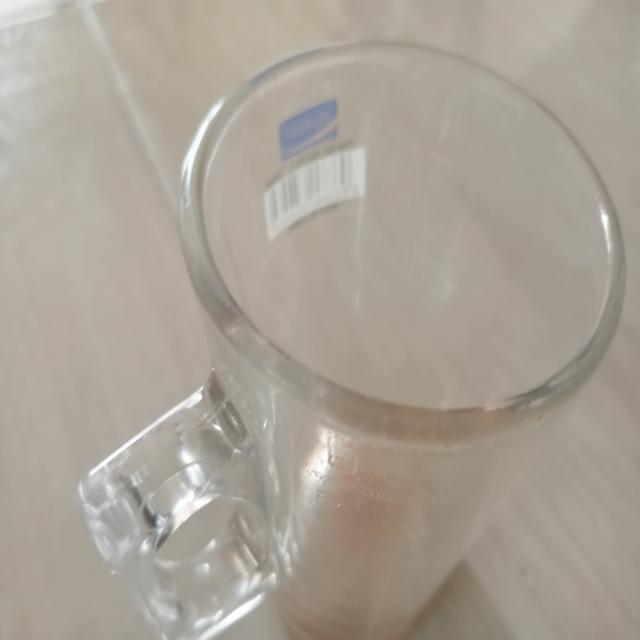glass-VX4N: (70, 47, 626, 640)
